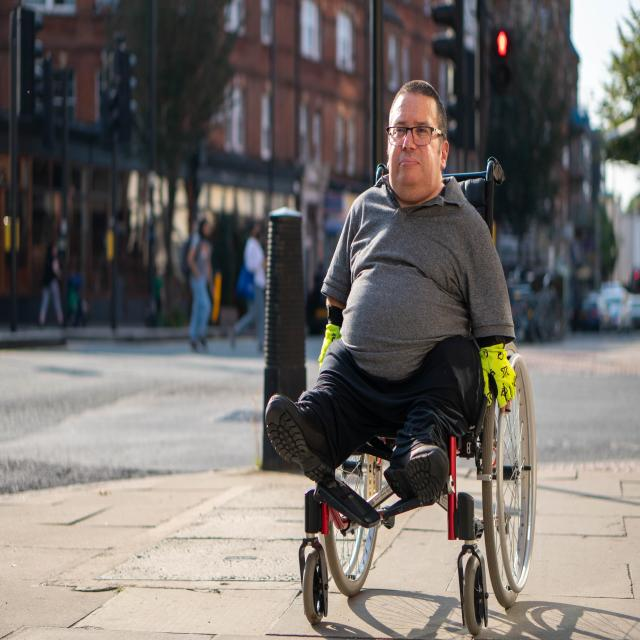wheelchairs: (297, 158, 538, 640)
